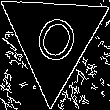O_SW: (25, 6, 82, 72)
